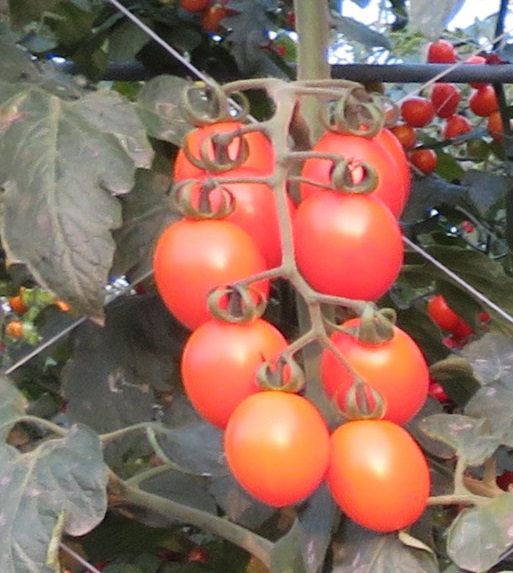orange: (300, 133, 411, 217), (176, 123, 277, 198)
red: (227, 387, 335, 511), (292, 185, 406, 302), (331, 411, 434, 537), (156, 216, 280, 315), (177, 311, 297, 402), (325, 315, 426, 418)
